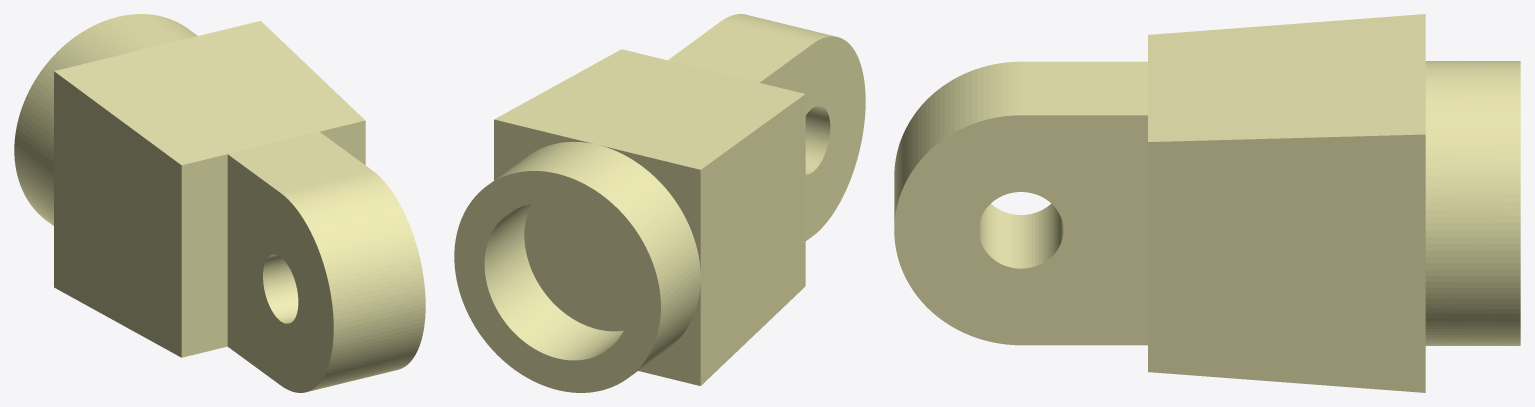
3 renders of one model, left to right at view 1: azimuth 30°, elevation 25°; view 2: azimuth 150°, elevation 25°; view 3: azimuth 270°, elevation 25°, orthographic. The views are drawn at different scales.
Visible parts, largest first — view 1: node; view 2: node; view 3: node.
Boxes of the visible parts, <box> form: node: <box>14,14,425,392</box>; node: <box>454,14,865,392</box>; node: <box>894,14,1520,392</box>.
Size of the model in its own units: 0.077 by 0.077 by 0.1692.
